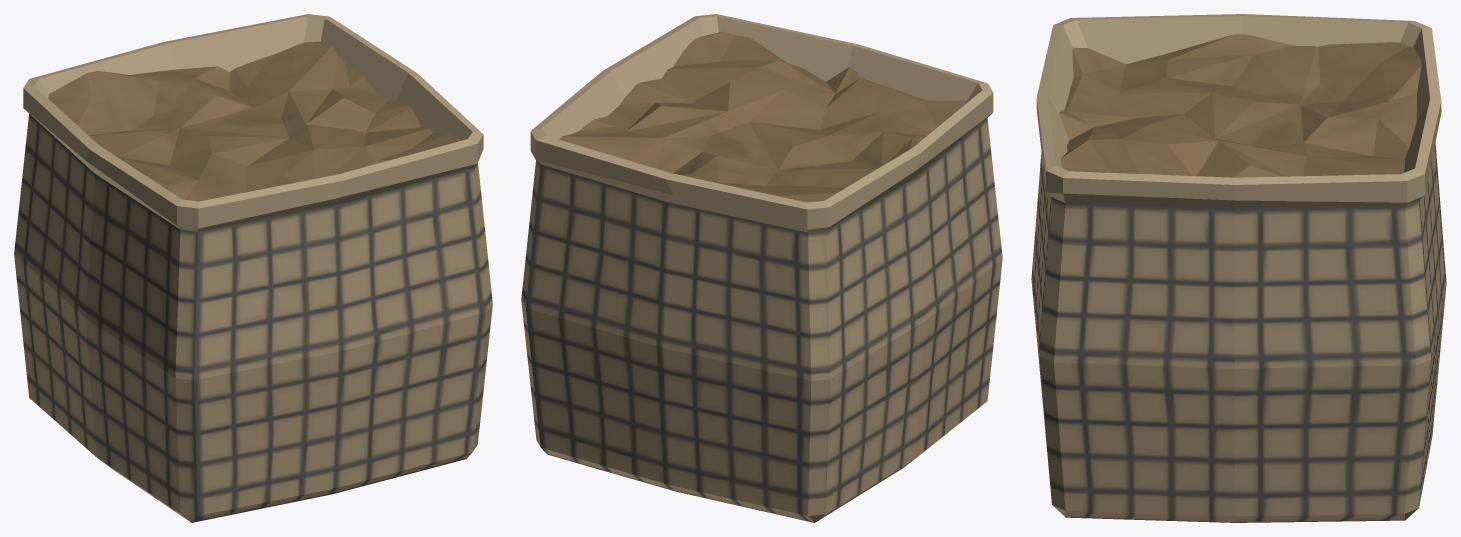
File: SM_Prop_Barrier_Base_Single_02.glb
3 views of the same model, side by side, from view 1: azimuth 30°, elevation 25°; view 2: azimuth 150°, elevation 25°; view 3: azimuth 270°, elevation 25° (orthographic). The views are drawn at different scales.
Parts seen in each view (by area): view 1: SM_Prop_Barrier_Base_Single_02; view 2: SM_Prop_Barrier_Base_Single_02; view 3: SM_Prop_Barrier_Base_Single_02.
Part boxes in pixels (x1,y1,x2,y2): SM_Prop_Barrier_Base_Single_02: (14, 14, 492, 522); SM_Prop_Barrier_Base_Single_02: (521, 14, 1002, 522); SM_Prop_Barrier_Base_Single_02: (1031, 14, 1446, 522).
Bounding box in the file's own units: 1.15 × 1.07 × 1.15.
1 material, 1 textured.
